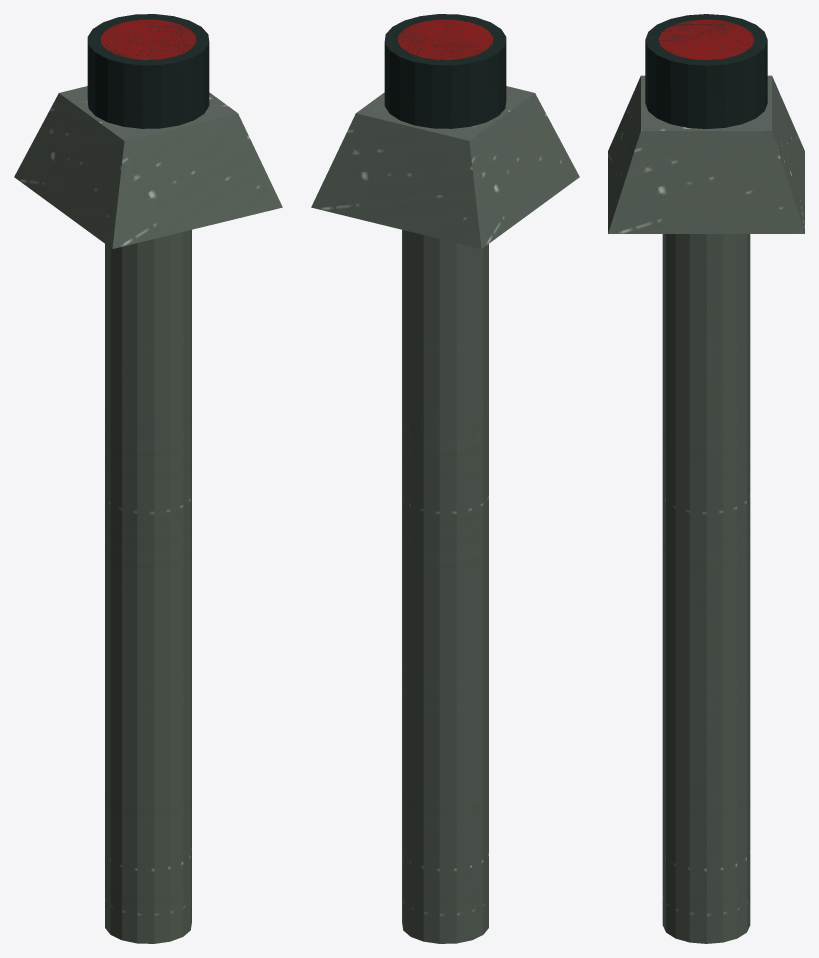
The model's file is panirugan-red-harbor-light.glb.
3 views of the same model, side by side, from view 1: azimuth 30°, elevation 25°; view 2: azimuth 150°, elevation 25°; view 3: azimuth 270°, elevation 25° (orthographic).
Parts seen in each view (by area): view 1: Tower, LensUnlit, LensLit; view 2: Tower, LensUnlit, LensLit; view 3: Tower, LensUnlit, LensLit.
Boxes of the visible parts, x1,y1,x2,y2 form: Tower: (14, 86, 282, 943); LensUnlit: (87, 14, 209, 128); LensLit: (100, 19, 196, 59); Tower: (311, 86, 579, 943); LensUnlit: (384, 14, 506, 128); LensLit: (397, 19, 493, 59); Tower: (608, 75, 804, 943); LensUnlit: (645, 14, 767, 128); LensLit: (658, 19, 754, 60).
Size of the model in its own units: 0.9 by 4.47 by 0.9.
Materials: 1 (1 with a texture image).
